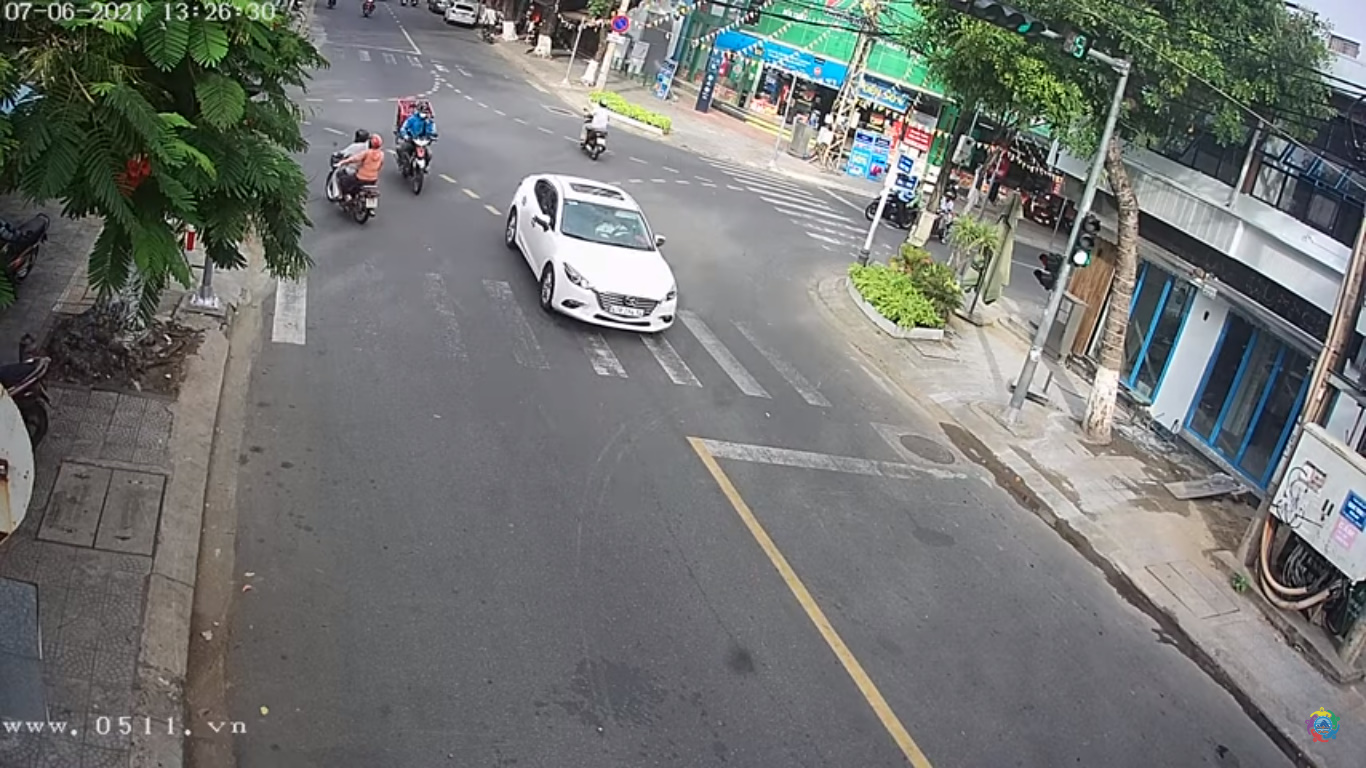car: (503, 175, 684, 333)
motorbike: (390, 98, 443, 189)
